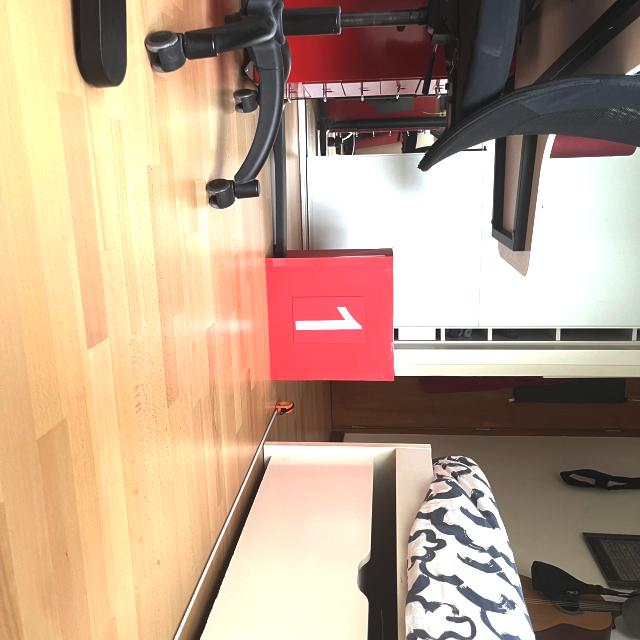box: (261, 245, 397, 384)
